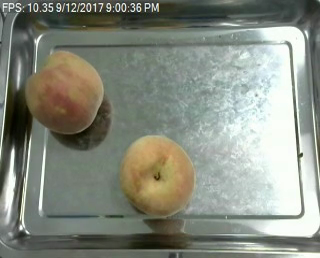Peach: (24, 49, 105, 135), (119, 134, 194, 216)
